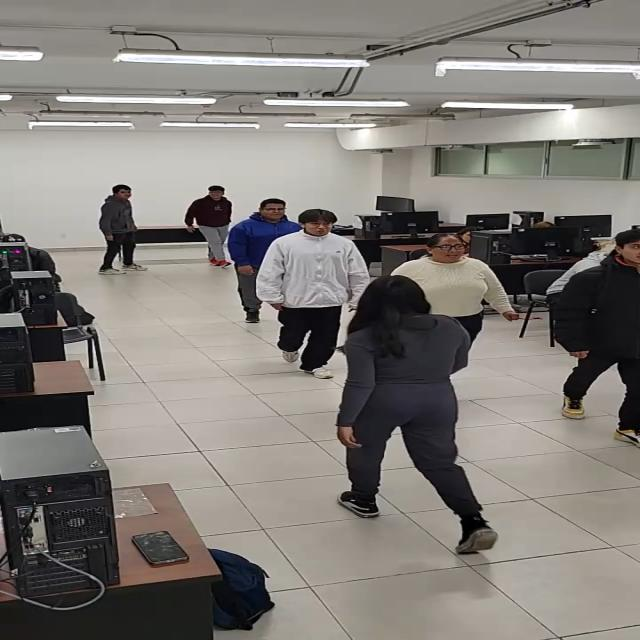Persona: (335, 274, 501, 556), (254, 208, 373, 381), (552, 229, 640, 451), (390, 231, 526, 354), (228, 198, 302, 325), (98, 184, 151, 276), (183, 184, 234, 268)
